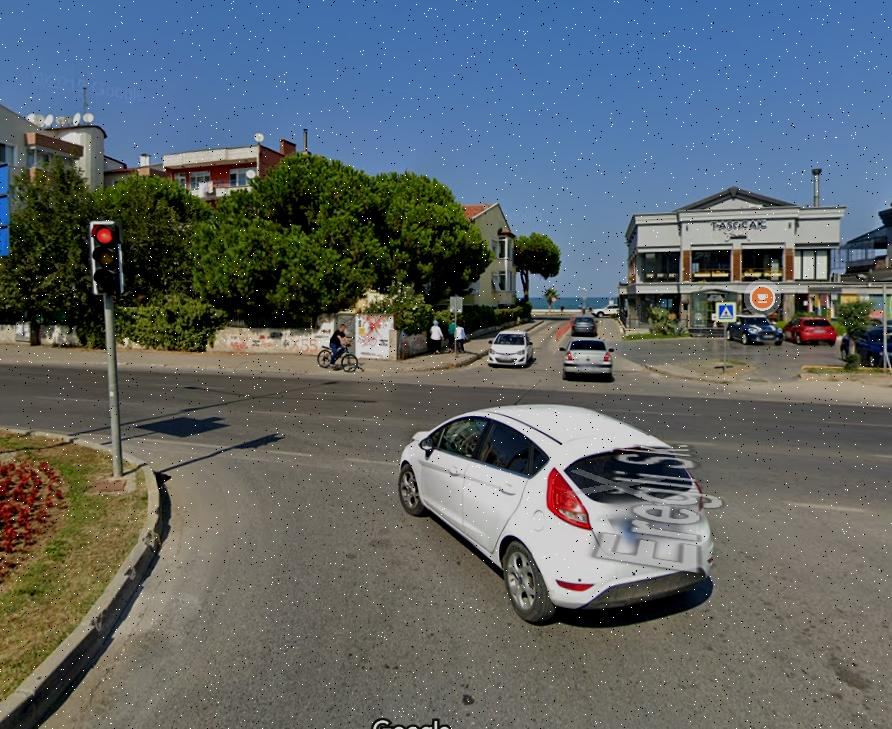redlight: (90, 218, 122, 294)
